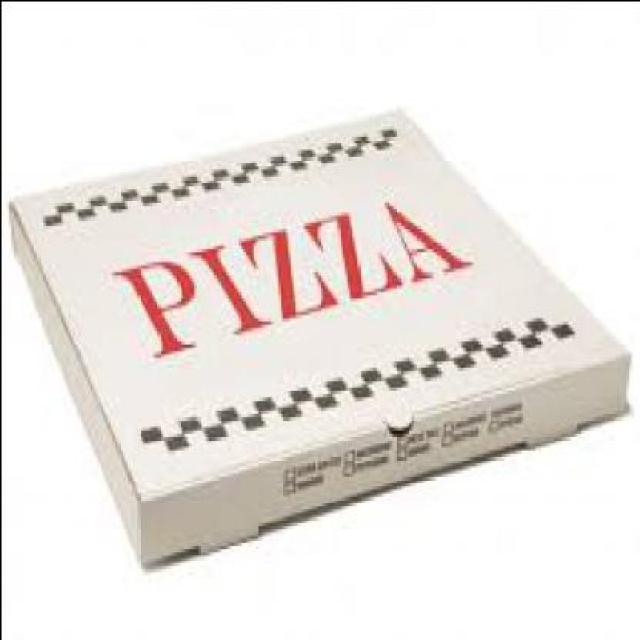CARDBOARD: (7, 102, 625, 561)
